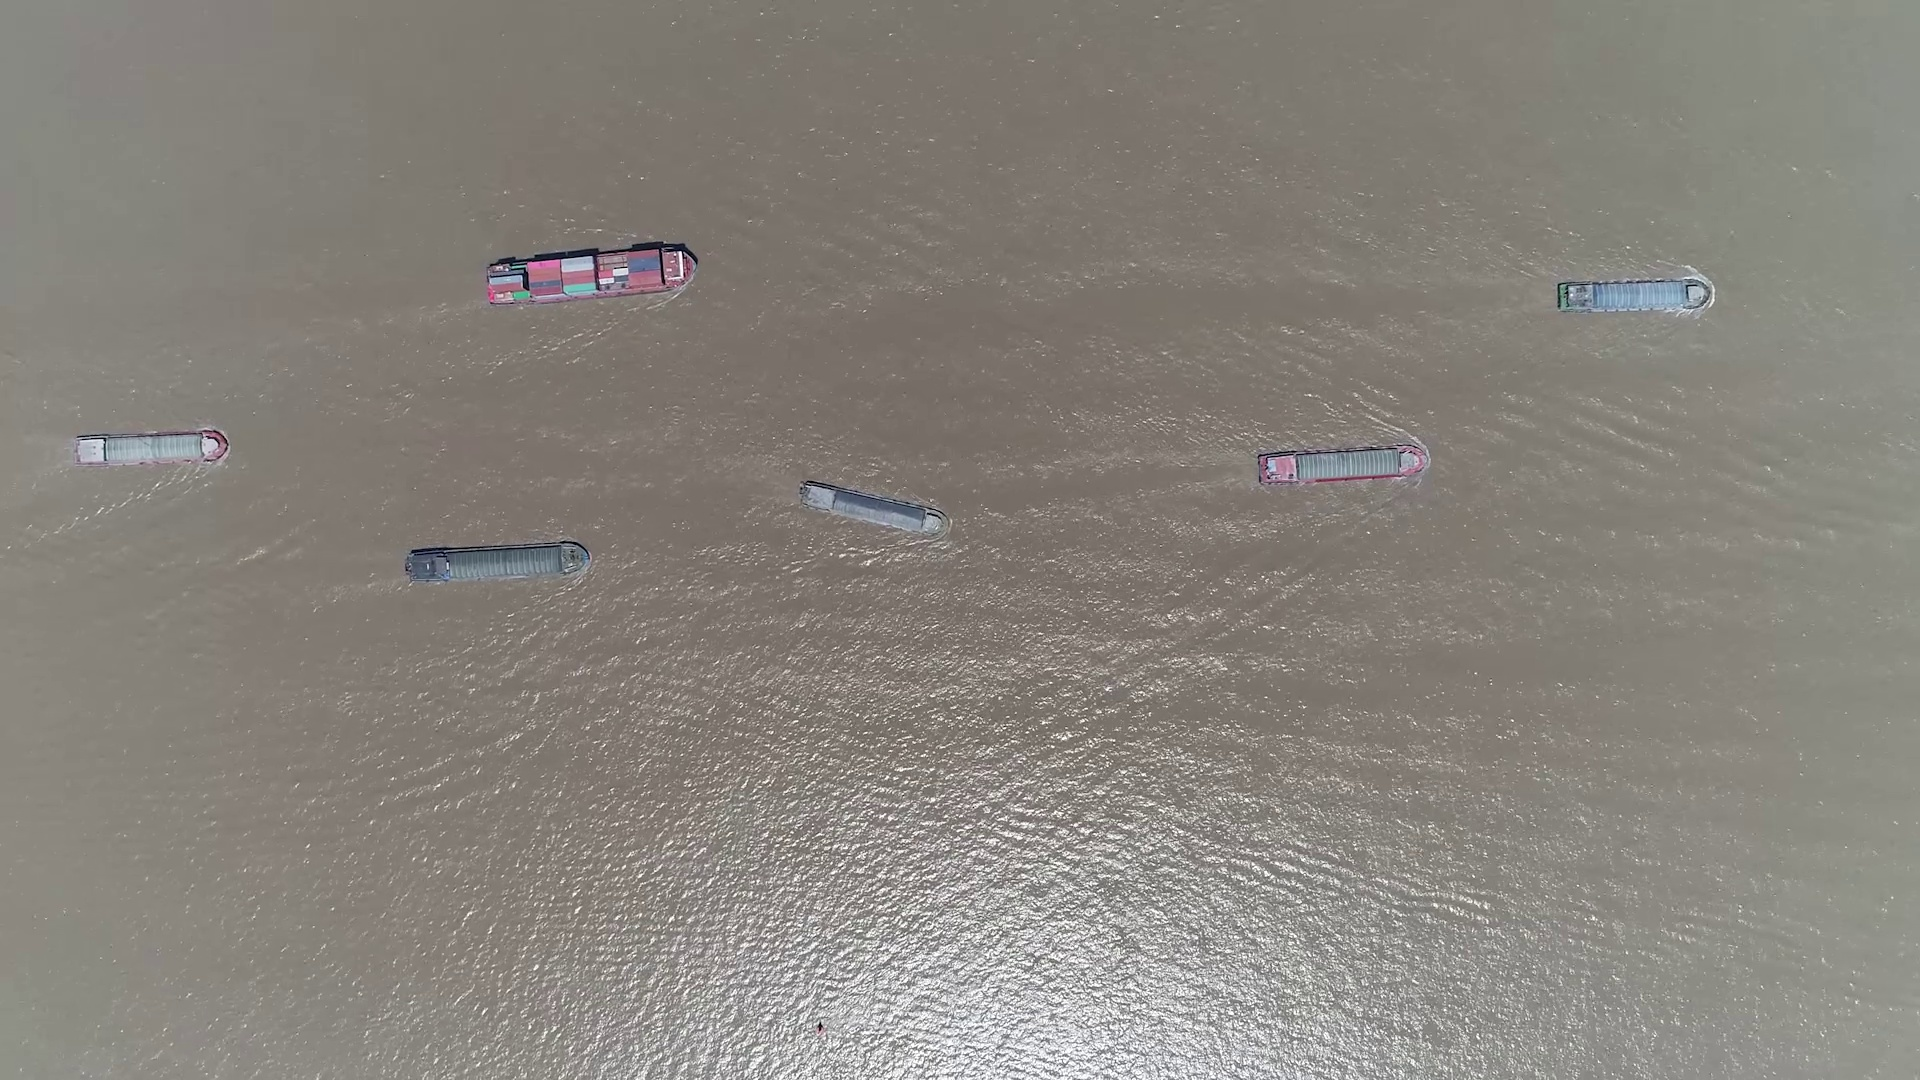ship: (487, 247, 698, 306), (799, 479, 945, 535), (406, 542, 589, 583), (1255, 444, 1428, 487), (1557, 280, 1708, 314), (74, 433, 229, 465)
